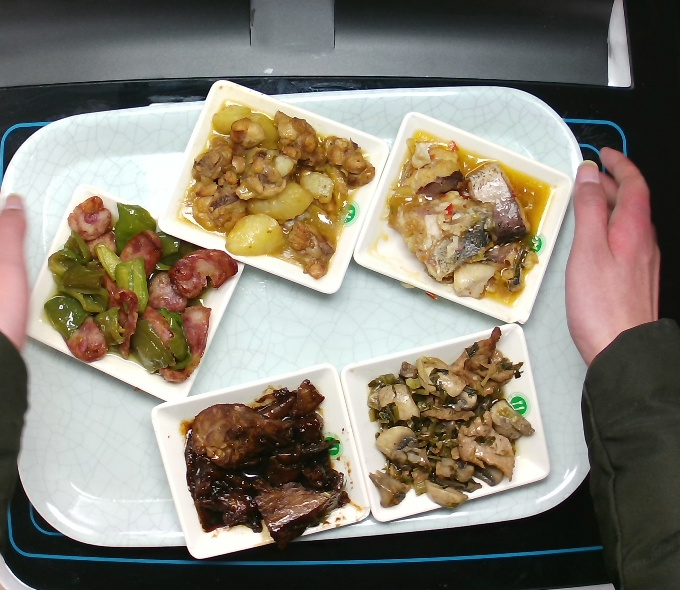wcq-JiangZhiYa: (184, 378, 350, 554)
wcq-MoGuRouPian: (366, 325, 538, 512)
wcq-QingJiaoXiangChang: (39, 194, 240, 387)
wcq-SuanCaiYu: (384, 130, 551, 307)
wcq-TuDouJiKuai: (181, 102, 379, 281)
